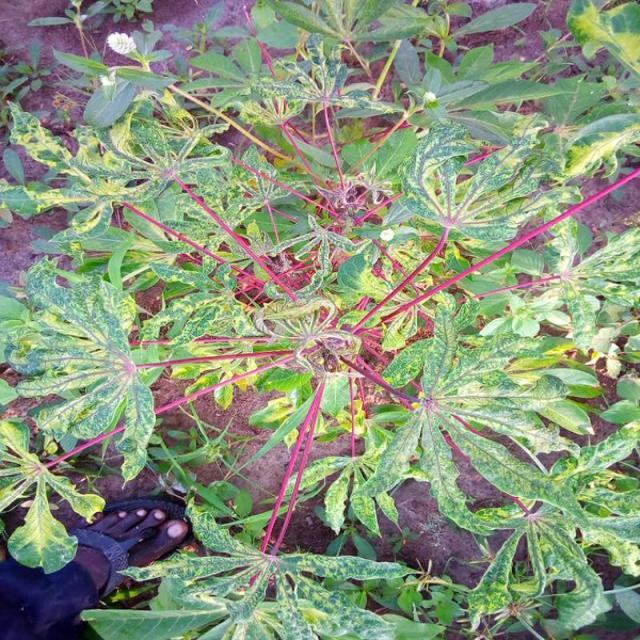cassava leaf: (1, 1, 638, 637), (11, 254, 162, 484)
